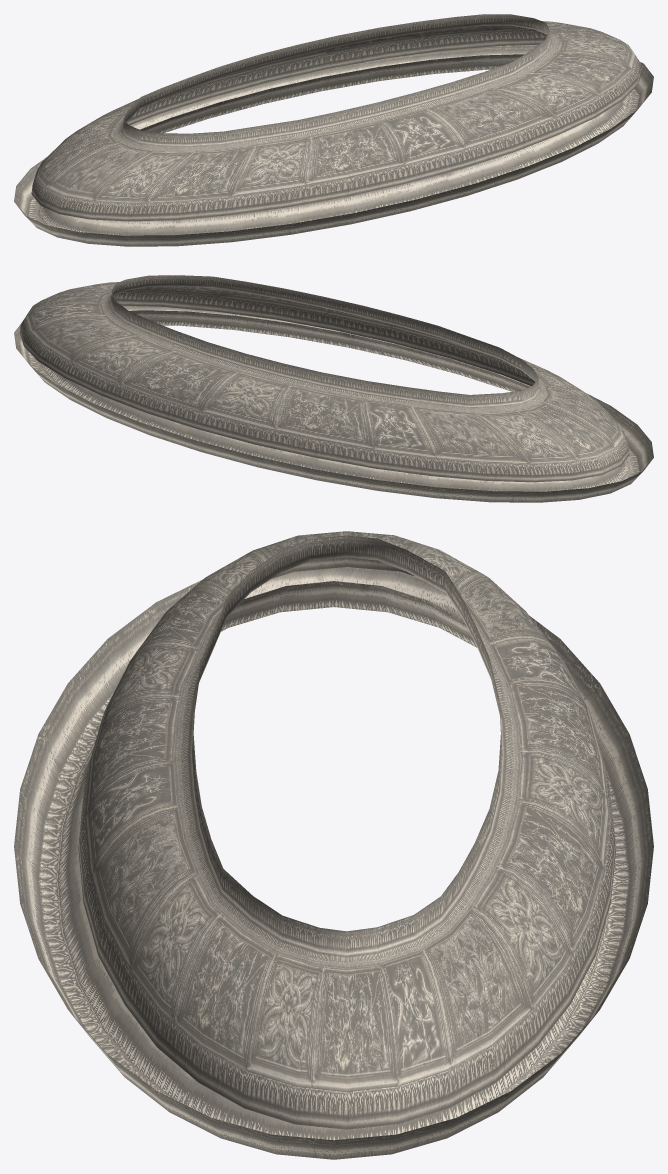
Rendered from Ceilingovaldome.fbx.
3 renders of one model, top to bottom at view 1: azimuth 30°, elevation 25°; view 2: azimuth 150°, elevation 25°; view 3: azimuth 270°, elevation 25°, orthographic. The views are drawn at different scales.
Parts seen in each view (by area): view 1: CeilingRoundLong.005; view 2: CeilingRoundLong.005; view 3: CeilingRoundLong.005.
Boxes of the visible parts, x1,y1,x2,y2 form: CeilingRoundLong.005: [14, 14, 653, 246]; CeilingRoundLong.005: [14, 275, 653, 502]; CeilingRoundLong.005: [14, 531, 653, 1159].
Bounding box in the file's own units: 1464 × 176 × 674.
